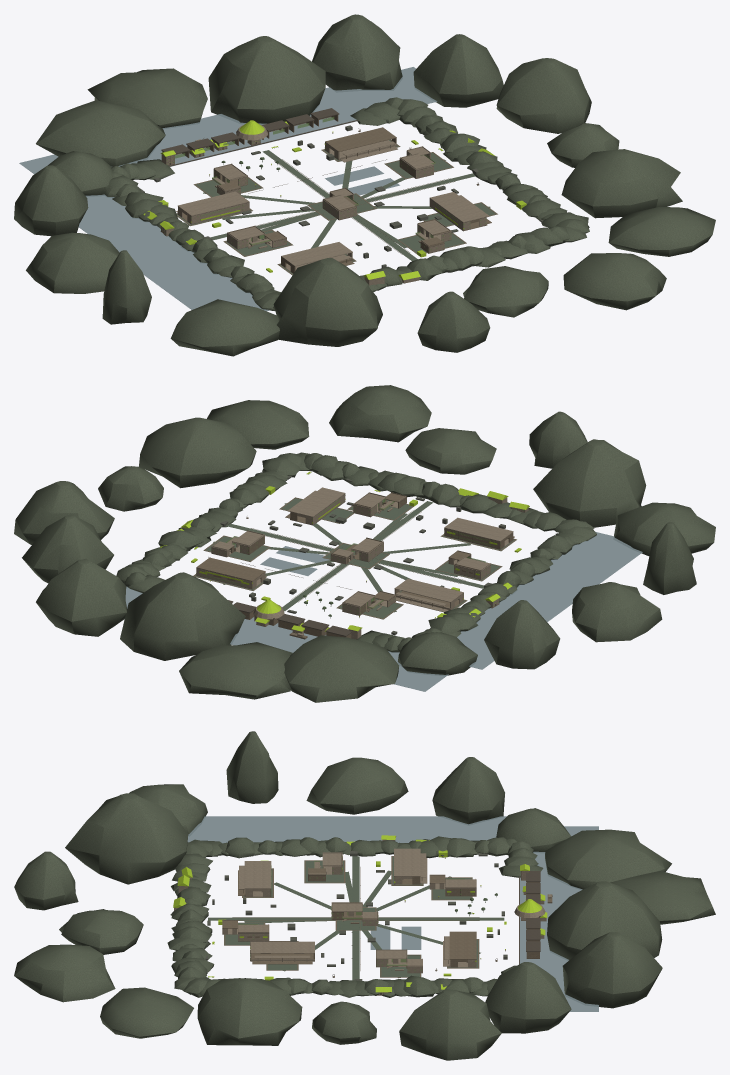
Rendered from kohan-lod1.glb.
The picture shows the model from 3 angles, top to bottom: view 1: azimuth 30°, elevation 25°; view 2: azimuth 150°, elevation 25°; view 3: azimuth 270°, elevation 25°; orthographic projection. The views are drawn at different scales.
Parts seen in each view (by area): view 1: HB_kohan_LOD1_terrain, HB_kohan_LOD1_water, HB_kohan_LOD1_wall, HB_kohan_LOD1_road, HB_kohan_LOD1_wall_alt, HB_kohan_LOD1_trim, HB_kohan_LOD1_accent, HB_kohan_LOD1_obstacle, HB_kohan_LOD1_glass; view 2: HB_kohan_LOD1_terrain, HB_kohan_LOD1_water, HB_kohan_LOD1_wall, HB_kohan_LOD1_road, HB_kohan_LOD1_wall_alt, HB_kohan_LOD1_accent, HB_kohan_LOD1_trim, HB_kohan_LOD1_obstacle, HB_kohan_LOD1_glass; view 3: HB_kohan_LOD1_terrain, HB_kohan_LOD1_water, HB_kohan_LOD1_wall, HB_kohan_LOD1_road, HB_kohan_LOD1_wall_alt, HB_kohan_LOD1_accent, HB_kohan_LOD1_trim, HB_kohan_LOD1_obstacle.
Part boxes in pixels (x1,y1,x2,y2): HB_kohan_LOD1_terrain: (14, 14, 715, 356); HB_kohan_LOD1_water: (19, 67, 437, 311); HB_kohan_LOD1_wall: (150, 125, 489, 285); HB_kohan_LOD1_road: (176, 140, 495, 275); HB_kohan_LOD1_wall_alt: (149, 115, 497, 283); HB_kohan_LOD1_trim: (161, 108, 485, 263); HB_kohan_LOD1_accent: (143, 120, 526, 280); HB_kohan_LOD1_obstacle: (140, 125, 543, 267); HB_kohan_LOD1_glass: (161, 116, 486, 263); HB_kohan_LOD1_terrain: (14, 385, 715, 702); HB_kohan_LOD1_water: (125, 532, 642, 691); HB_kohan_LOD1_wall: (182, 487, 528, 639); HB_kohan_LOD1_road: (194, 498, 516, 619); HB_kohan_LOD1_wall_alt: (193, 492, 516, 638); HB_kohan_LOD1_accent: (160, 471, 529, 631); HB_kohan_LOD1_trim: (194, 472, 524, 639); HB_kohan_LOD1_obstacle: (220, 476, 505, 635); HB_kohan_LOD1_glass: (196, 495, 524, 613); HB_kohan_LOD1_terrain: (14, 731, 715, 1060); HB_kohan_LOD1_water: (187, 816, 598, 1011); HB_kohan_LOD1_wall: (174, 839, 551, 994); HB_kohan_LOD1_road: (208, 856, 504, 980); HB_kohan_LOD1_wall_alt: (222, 852, 552, 995); HB_kohan_LOD1_accent: (173, 835, 547, 992); HB_kohan_LOD1_trim: (188, 857, 552, 994); HB_kohan_LOD1_obstacle: (205, 851, 507, 980).
Bounding box in the file's own units: 600 × 62.58 × 630.
10 materials, 8 textured.
